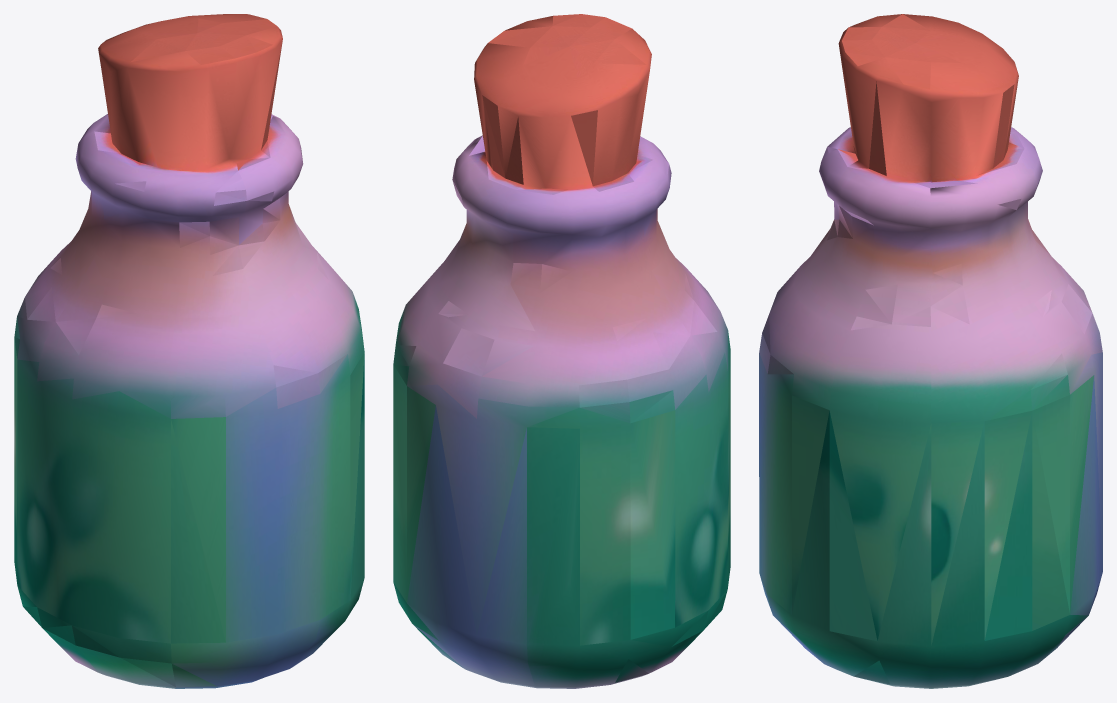
File: Poison1.obj
3 views of the same model, side by side, from view 1: azimuth 30°, elevation 25°; view 2: azimuth 150°, elevation 25°; view 3: azimuth 270°, elevation 25° (orthographic). The views are drawn at different scales.
Parts seen in each view (by area): view 1: tripo_node_180b6fff-7038-498b-a50b-92fc36045247; view 2: tripo_node_180b6fff-7038-498b-a50b-92fc36045247; view 3: tripo_node_180b6fff-7038-498b-a50b-92fc36045247.
Boxes of the visible parts, x1,y1,x2,y2 form: tripo_node_180b6fff-7038-498b-a50b-92fc36045247: (14,14,364,688); tripo_node_180b6fff-7038-498b-a50b-92fc36045247: (393,14,730,688); tripo_node_180b6fff-7038-498b-a50b-92fc36045247: (759,14,1102,688).
Bounding box in the file's own units: 0.5187 × 1 × 0.519.
1 material, 1 textured.
